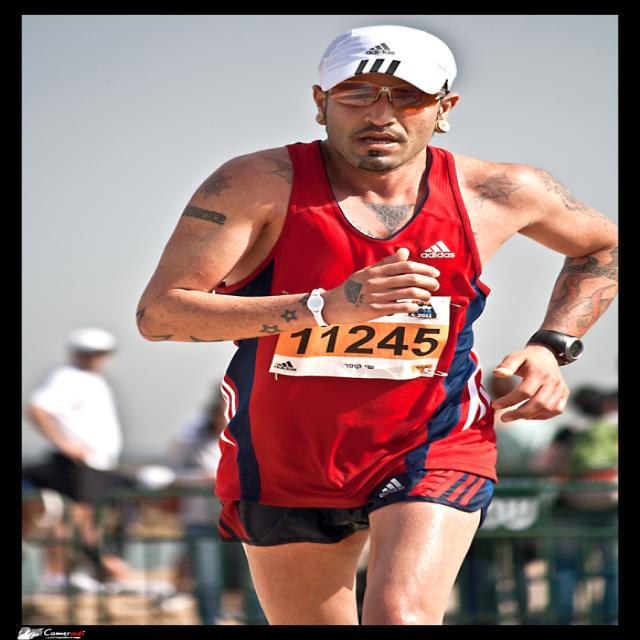Bib: (324, 320, 444, 358)
